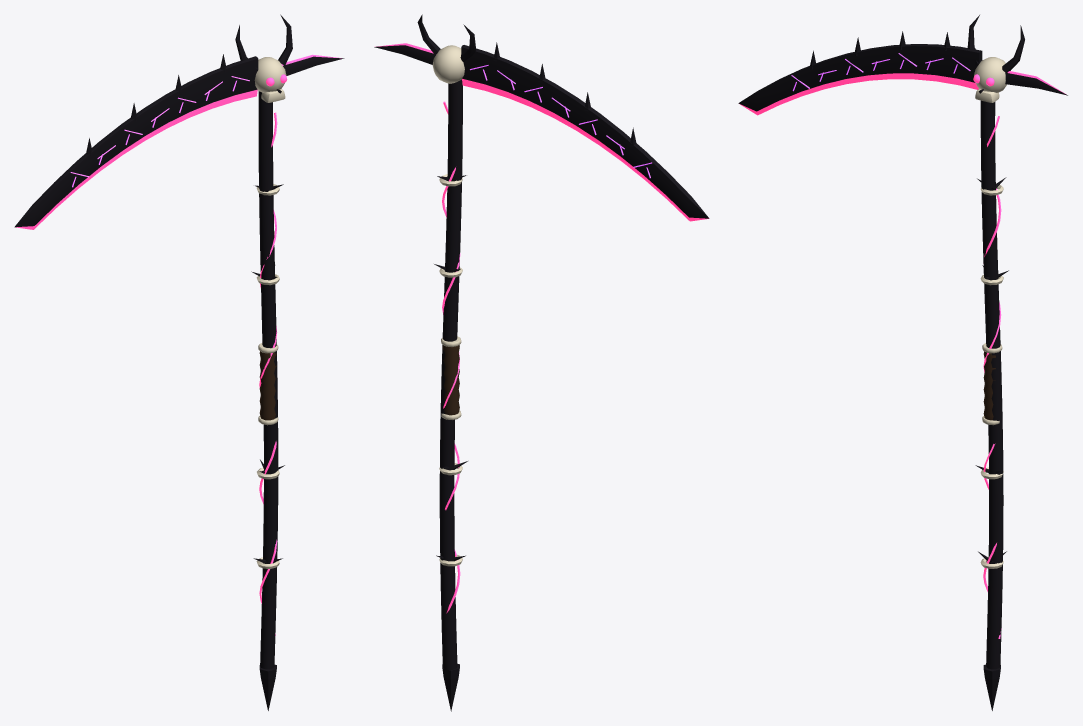
Rendered from abyss_reaper.glb.
3 views of the same model, side by side, from view 1: azimuth 30°, elevation 25°; view 2: azimuth 150°, elevation 25°; view 3: azimuth 330°, elevation 25° (orthographic).
Visible parts, largest first — view 1: abyss_reaper; view 2: abyss_reaper; view 3: abyss_reaper.
Part boxes in pixels (x1,y1,x2,y2): abyss_reaper: (14,14,344,710); abyss_reaper: (374,14,709,711); abyss_reaper: (738,15,1067,710).
Bounding box in the file's own units: 1.16 × 2.3 × 0.133.
